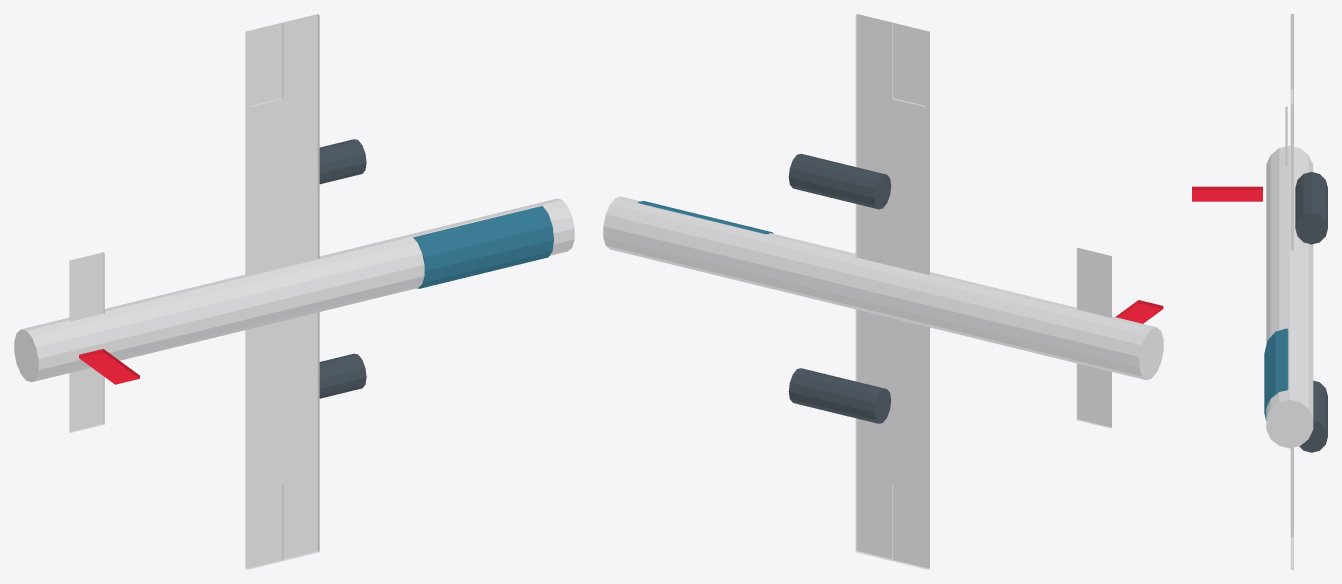
The picture shows the model from 3 angles, left to right: view 1: azimuth 30°, elevation 25°; view 2: azimuth 150°, elevation 25°; view 3: azimuth 270°, elevation 25°; orthographic projection. The views are drawn at different scales.
Parts seen in each view (by area): view 1: Boeing 787-9; view 2: Boeing 787-9; view 3: Boeing 787-9.
Boxes of the visible parts, x1,y1,x2,y2 form: Boeing 787-9: [14, 14, 574, 569]; Boeing 787-9: [603, 14, 1163, 569]; Boeing 787-9: [1192, 14, 1327, 569].
Size of the model in its own units: 62.8 by 60.1 by 14.2.
